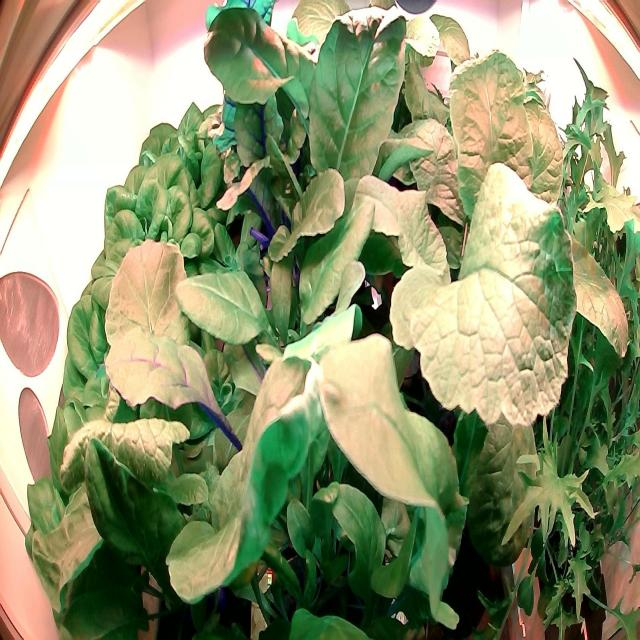Ready: (21, 368, 200, 640), (54, 232, 168, 424), (94, 153, 220, 325), (134, 98, 246, 241)
